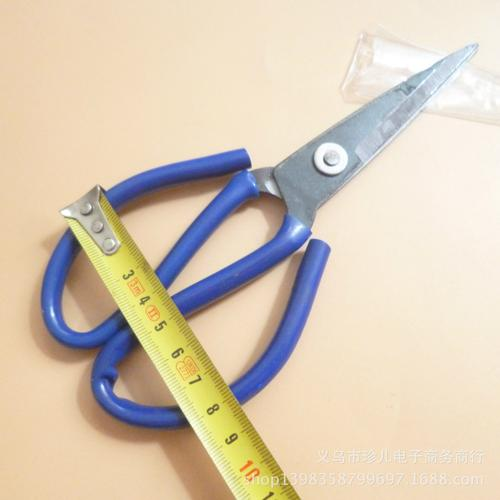scissor: (39, 42, 479, 437)
